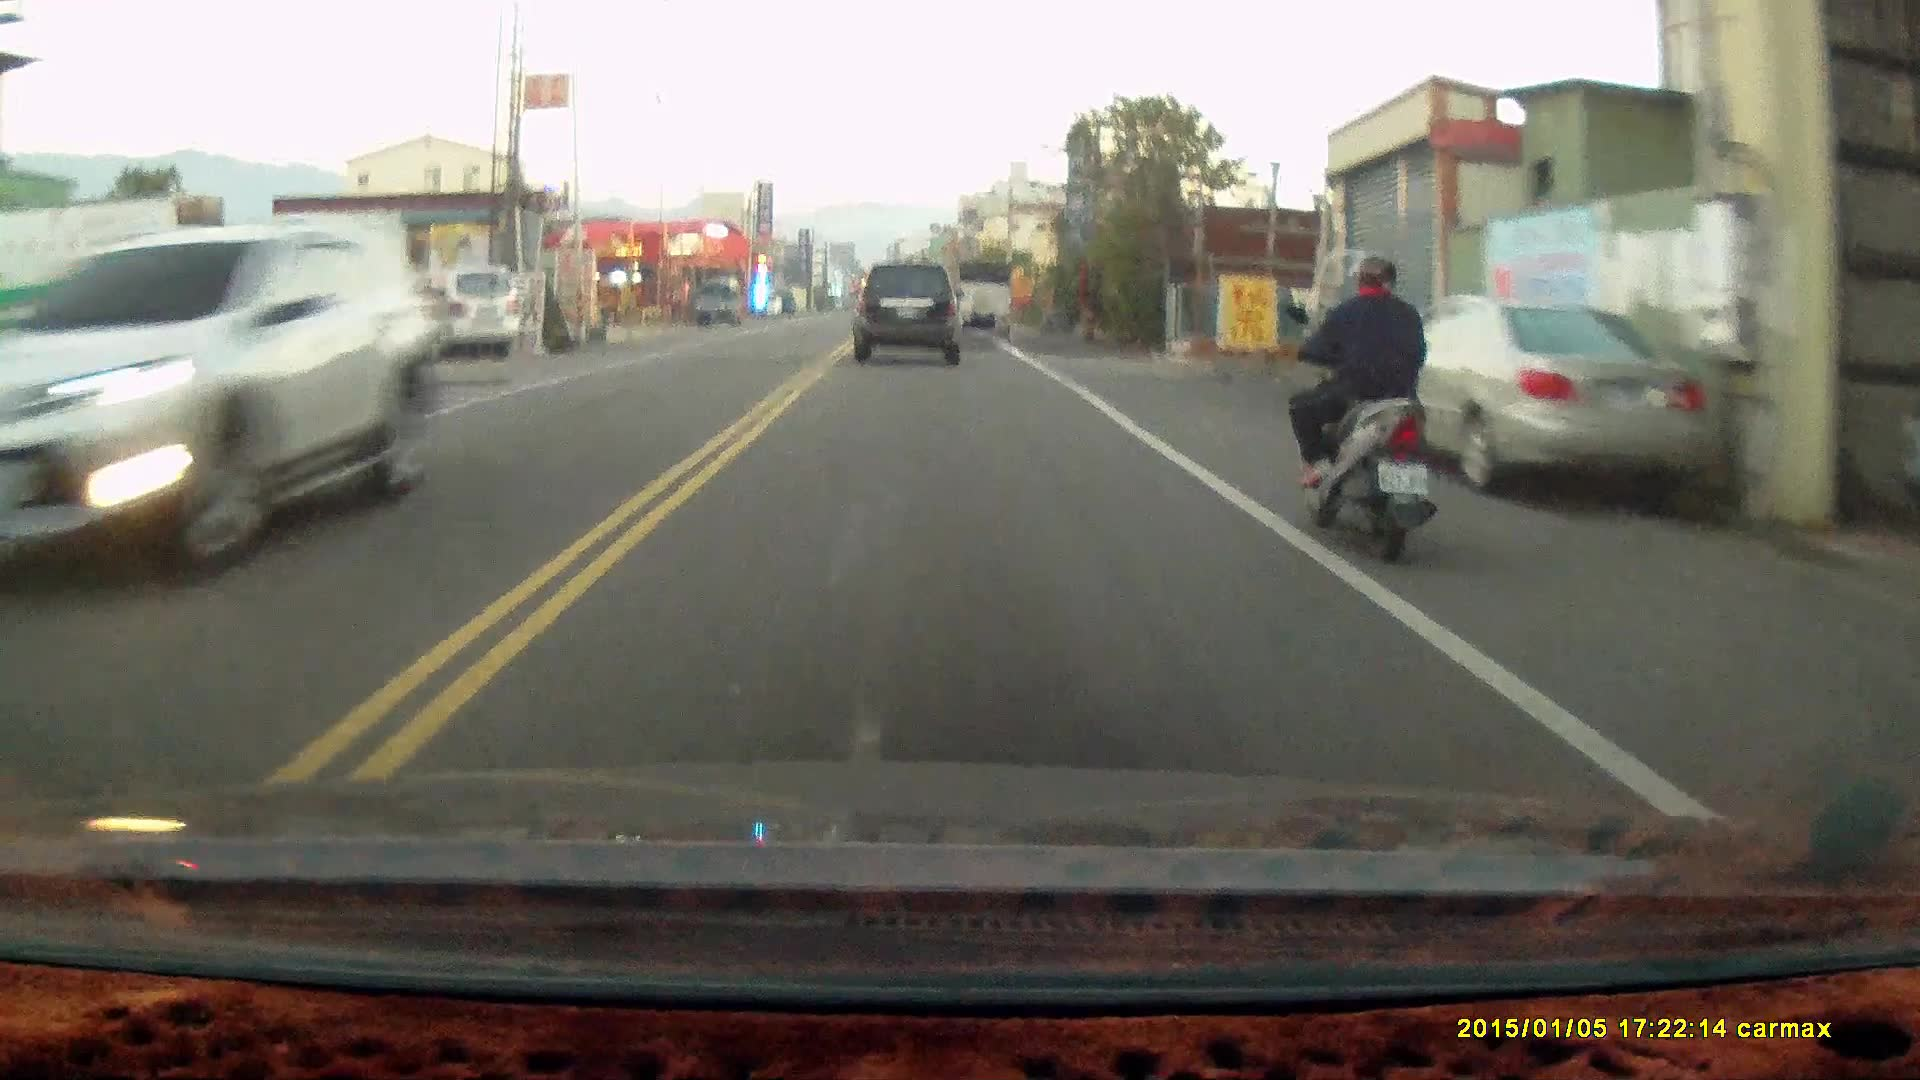rider: (1282, 257, 1434, 570)
vehicle: (1, 221, 441, 589), (1351, 291, 1741, 517), (387, 262, 522, 364), (853, 260, 964, 365), (954, 260, 1016, 337)
